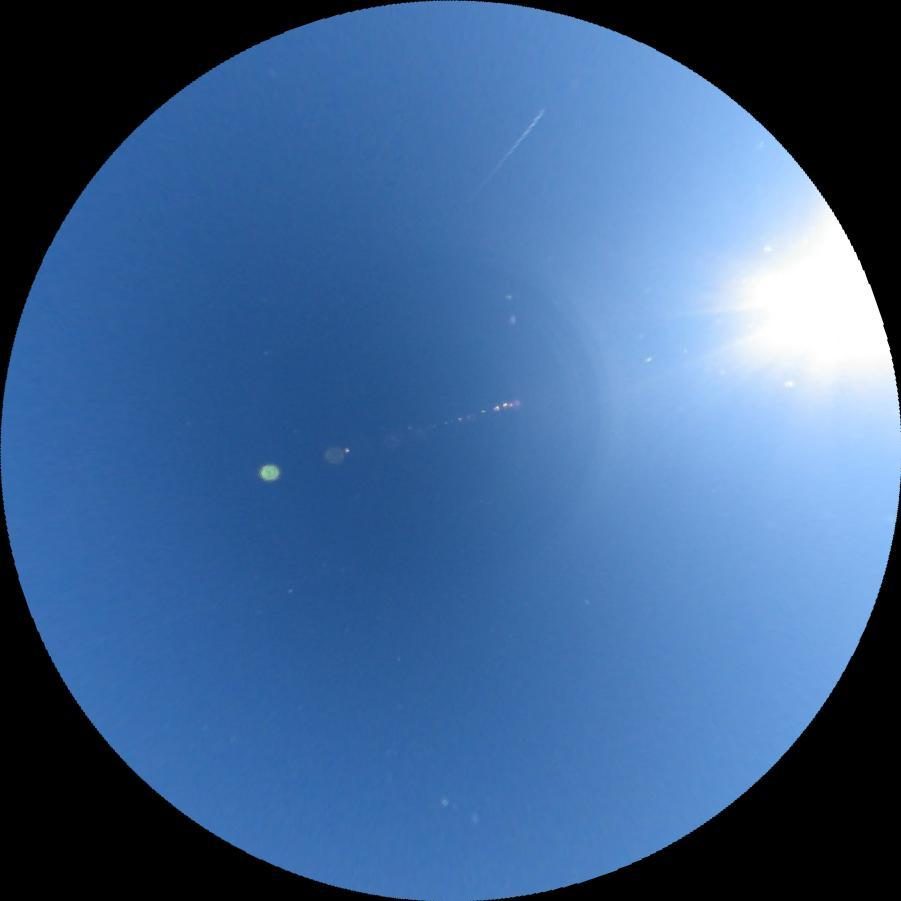contrail young: (472, 107, 547, 196)
sun: (734, 209, 895, 399)
